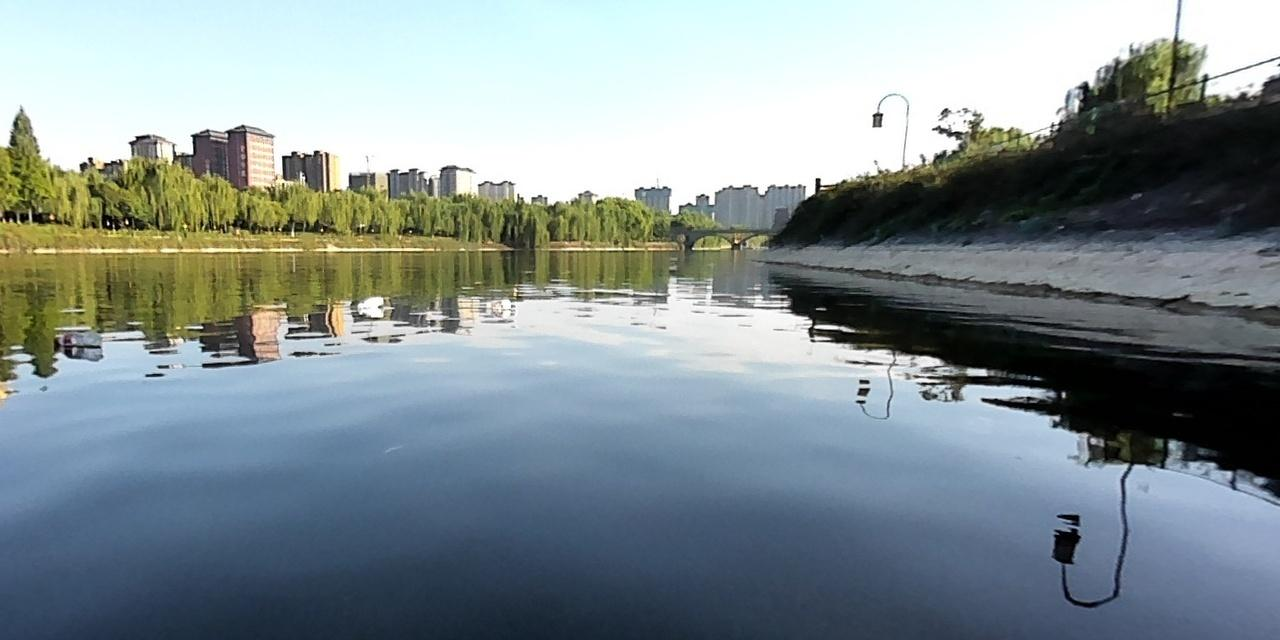bottle: (48, 328, 103, 348), (353, 291, 385, 310), (481, 296, 513, 310)
